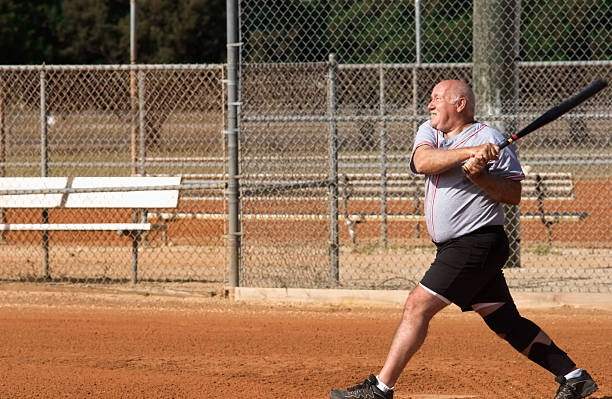bita: (493, 74, 605, 155)
